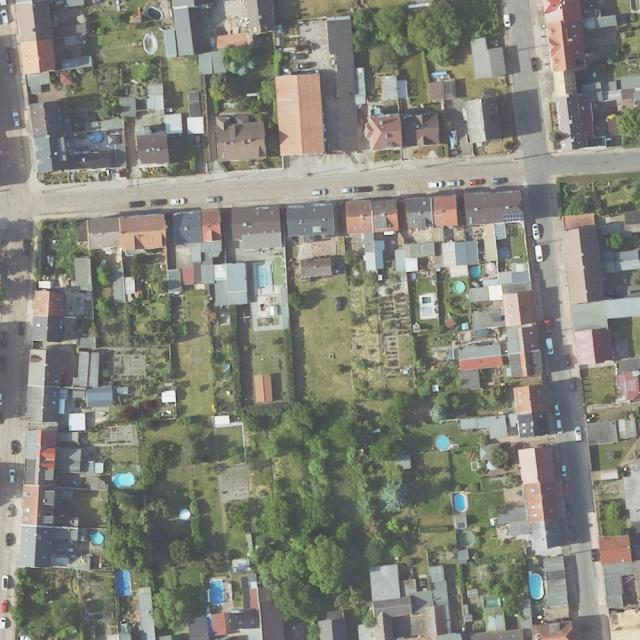PV: (503, 213, 523, 222)
